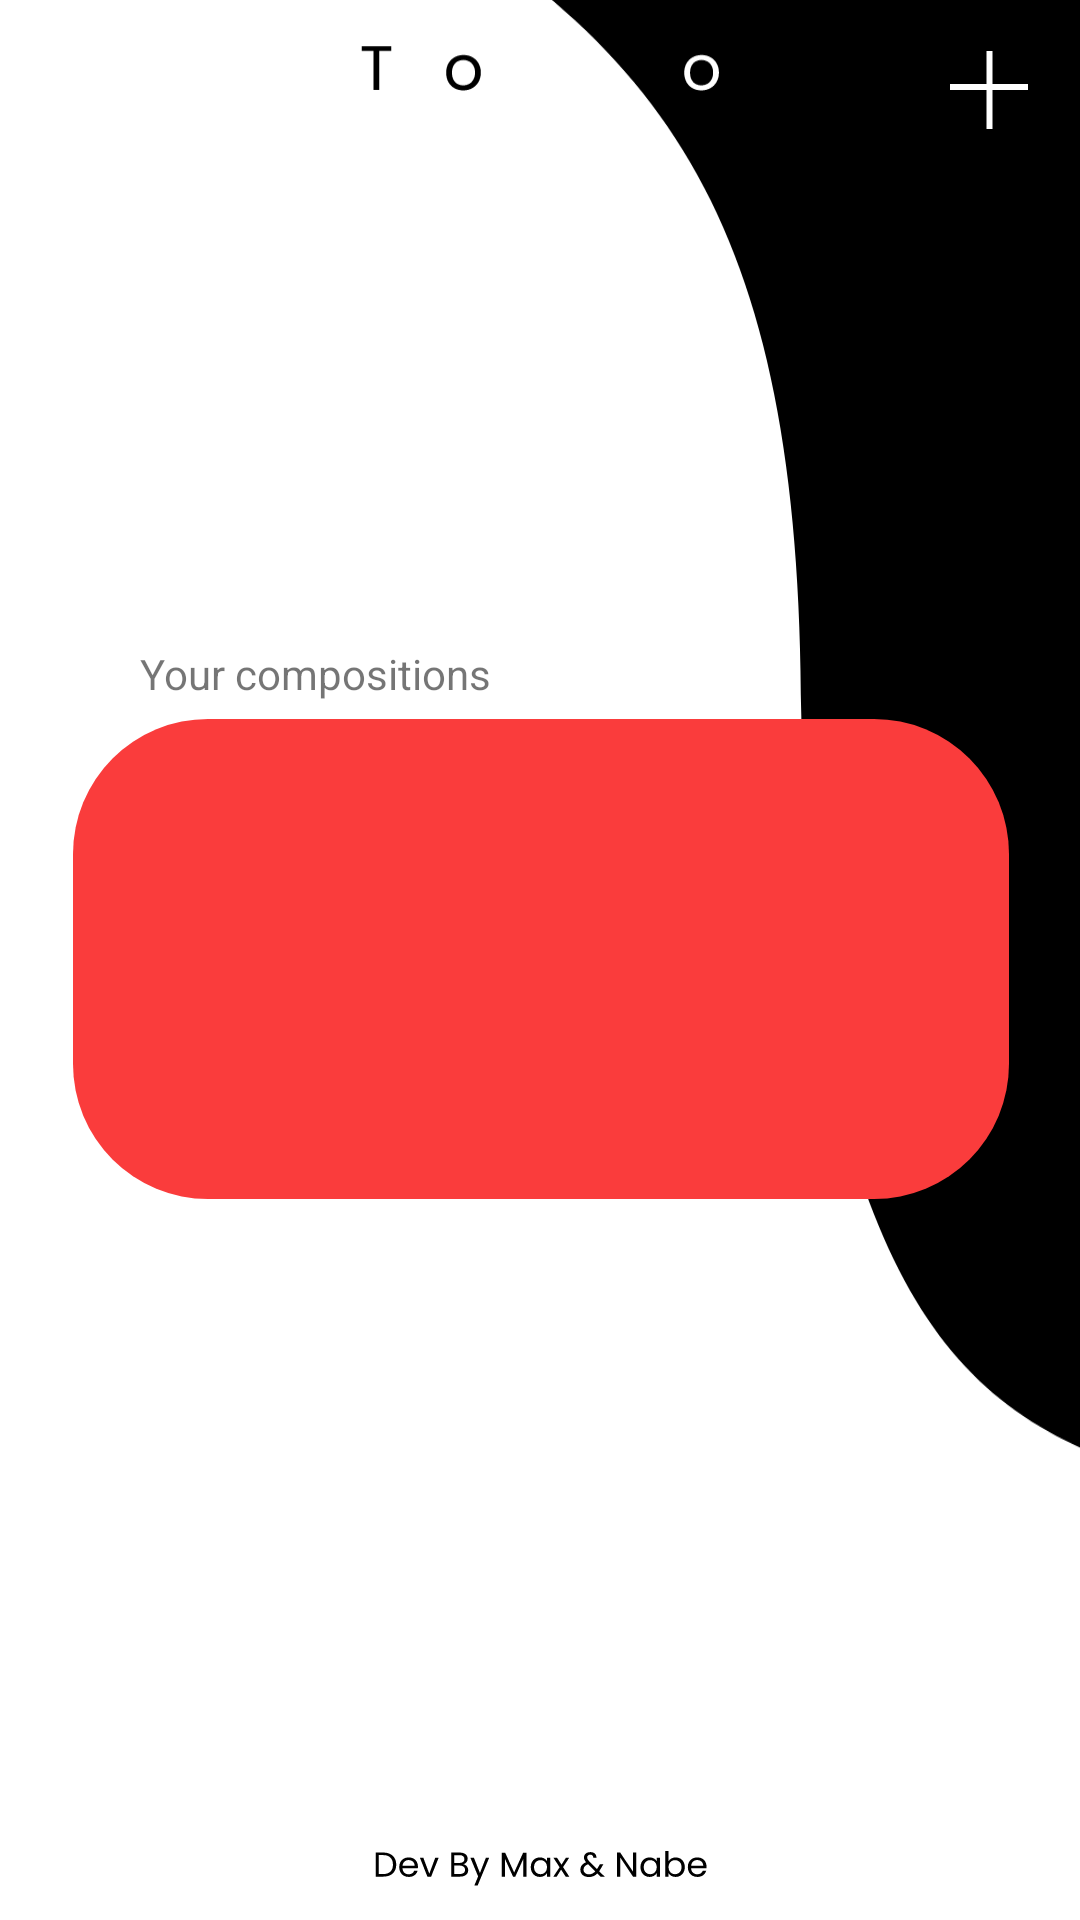

Named icons in this screenshot (1080*1920) and their bounding boxes, (x1, y1, x2, y2):
plusmenu: (950, 51, 1028, 129)
